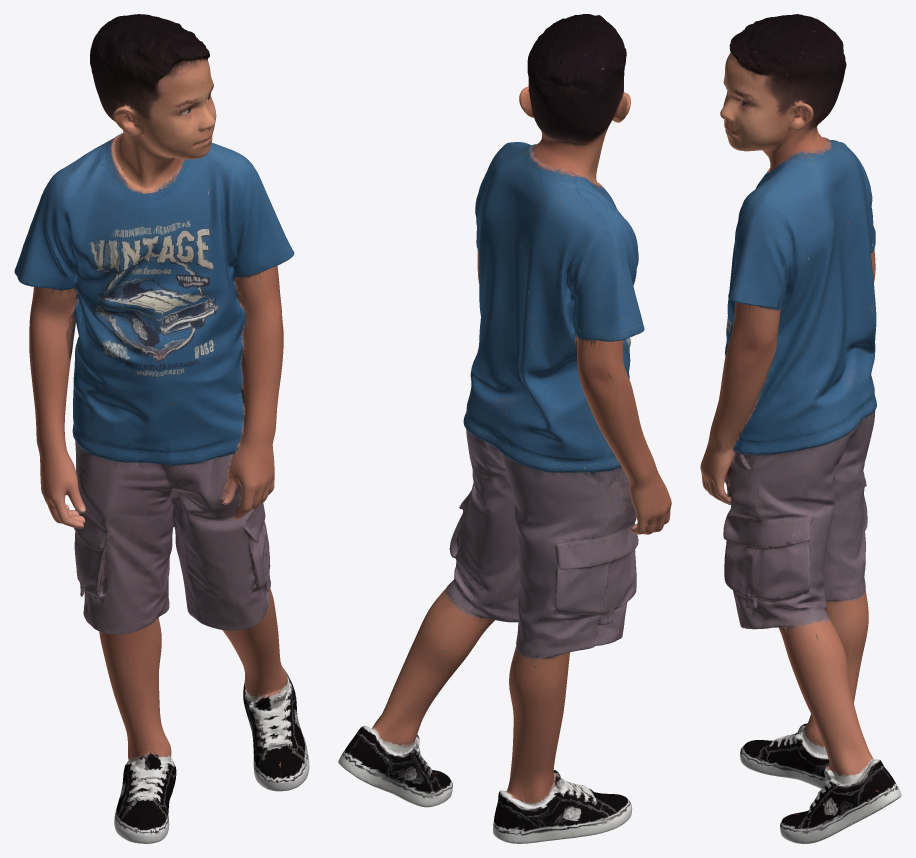
Rendered from boy3.glb.
3 renders of one model, left to right at view 1: azimuth 30°, elevation 25°; view 2: azimuth 150°, elevation 25°; view 3: azimuth 270°, elevation 25°, orthographic. The views are drawn at different scales.
Parts seen in each view (by area): view 1: Object_5; view 2: Object_5; view 3: Object_5.
Boxes of the visible parts, x1=… form: Object_5: x1=14, y1=14, x2=309, y2=843; Object_5: x1=338, y1=14, x2=671, y2=843; Object_5: x1=700, y1=14, x2=901, y2=843.
Bounding box in the file's own units: 0.7041 × 1.9 × 0.4608.
Materials: 1 (1 with a texture image).
